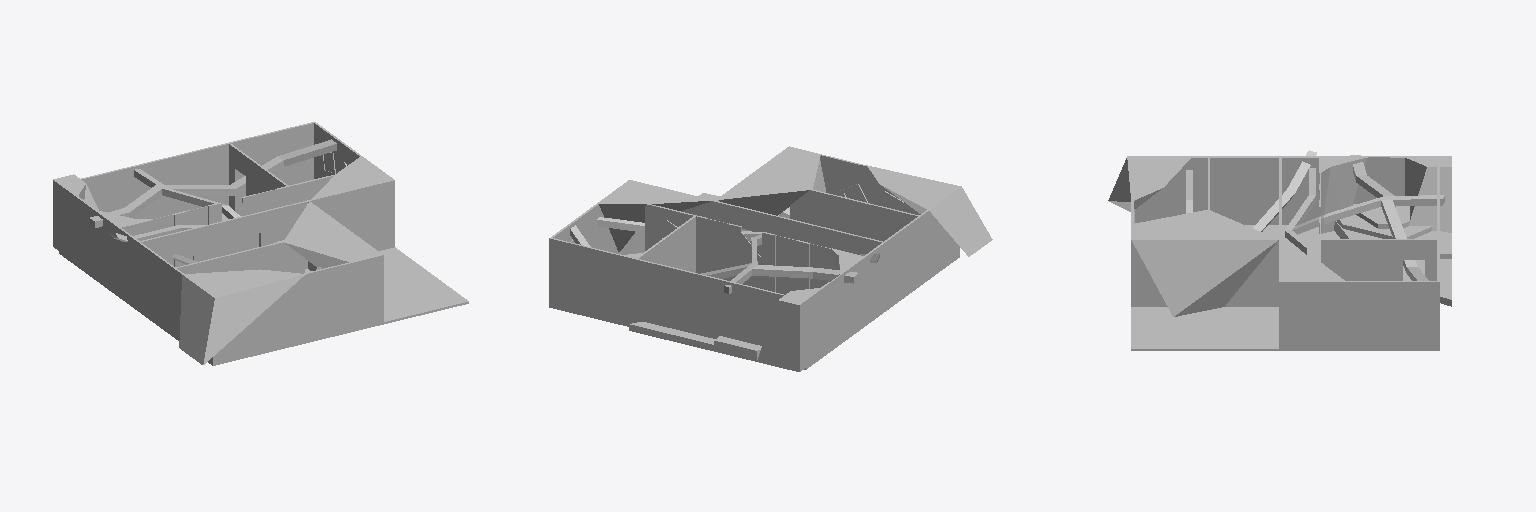
File: TUTORIAL_EMBLOCADO.obj
3 renders of one model, left to right at view 1: azimuth 30°, elevation 25°; view 2: azimuth 150°, elevation 25°; view 3: azimuth 270°, elevation 25°, orthographic.
Parts seen in each view (by area): view 1: pCube4; view 2: pCube4; view 3: pCube4.
Part boxes in pixels (bbox=[...]): pCube4: bbox=[53, 122, 468, 365]; pCube4: bbox=[549, 146, 992, 371]; pCube4: bbox=[1108, 150, 1451, 350].
Size of the model in its own units: 13 by 3.94 by 13.94.